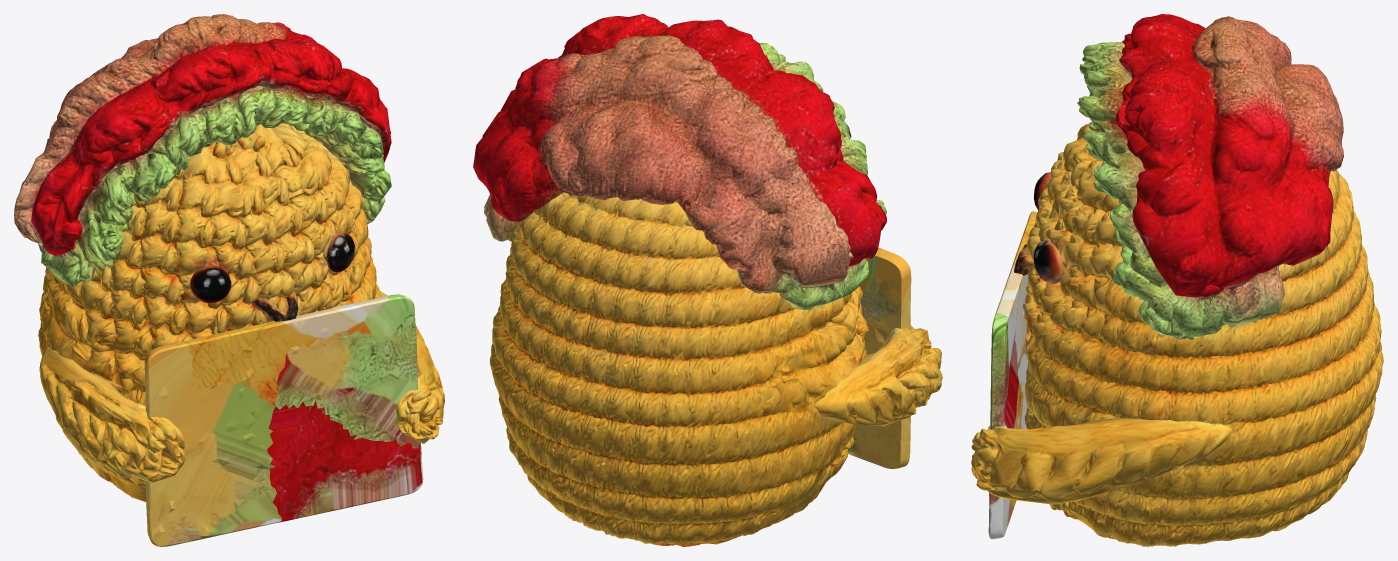
The model's file is taco.glb.
3 views of the same model, side by side, from view 1: azimuth 30°, elevation 25°; view 2: azimuth 150°, elevation 25°; view 3: azimuth 270°, elevation 25° (orthographic). The views are drawn at different scales.
Visible parts, largest first — view 1: card, trim, body, handL, handR, eyeL, eyeR; view 2: body, trim, handL, card; view 3: body, trim, handR, card, eyeR.
Boxes of the visible parts, box(x1,y1,x2,y2) form: card: box(144, 294, 423, 546); trim: box(14, 14, 391, 287); body: box(38, 123, 381, 501); handL: box(39, 347, 185, 482); handR: box(380, 291, 444, 443); eyeL: box(190, 264, 231, 303); eyeR: box(323, 233, 354, 272); body: box(489, 192, 868, 546); trim: box(473, 14, 886, 309); handL: box(814, 325, 942, 426); card: box(848, 247, 911, 469); body: box(1014, 122, 1383, 546); trim: box(1077, 14, 1343, 339); handR: box(971, 417, 1232, 504); card: box(988, 211, 1037, 539); eyeR: box(1033, 239, 1062, 284).
Size of the model in its own units: 1.56 by 1.9 by 1.44.
Materials: 7 (7 with a texture image).
